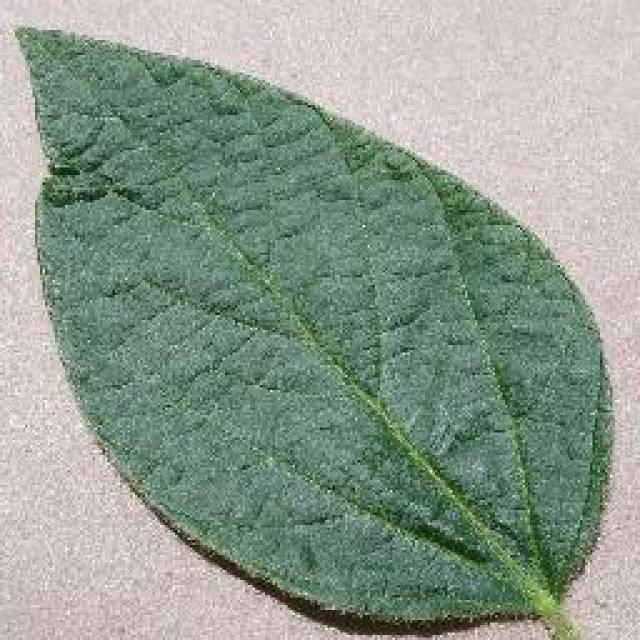Soy_healthy: (28, 37, 579, 585)
